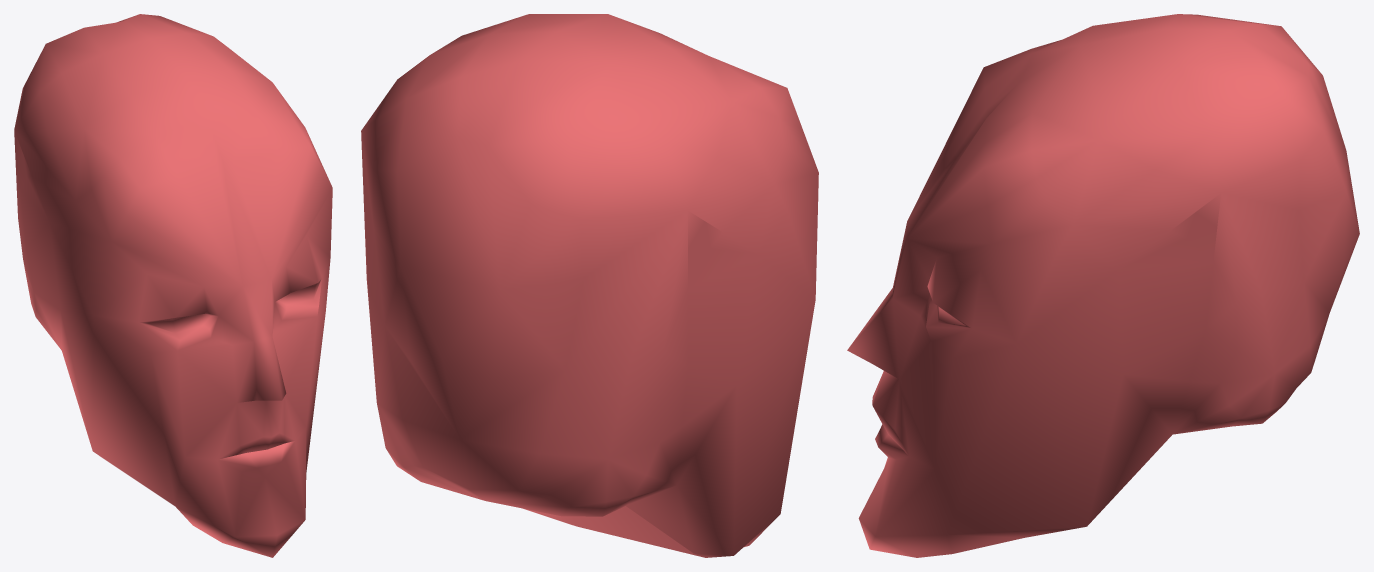
The picture shows the model from 3 angles, left to right: view 1: azimuth 30°, elevation 25°; view 2: azimuth 150°, elevation 25°; view 3: azimuth 270°, elevation 25°; orthographic projection. The views are drawn at different scales.
Visible parts, largest first — view 1: Tri B_N_Dark Elf_M_Head_01; view 2: Tri B_N_Dark Elf_M_Head_01; view 3: Tri B_N_Dark Elf_M_Head_01.
Part boxes in pixels (left/top/right/bottom): Tri B_N_Dark Elf_M_Head_01: left=14, top=14, right=332, bottom=557; Tri B_N_Dark Elf_M_Head_01: left=361, top=14, right=818, bottom=557; Tri B_N_Dark Elf_M_Head_01: left=847, top=14, right=1359, bottom=557.
Bounding box in the file's own units: 9.46 × 16.08 × 14.35.
